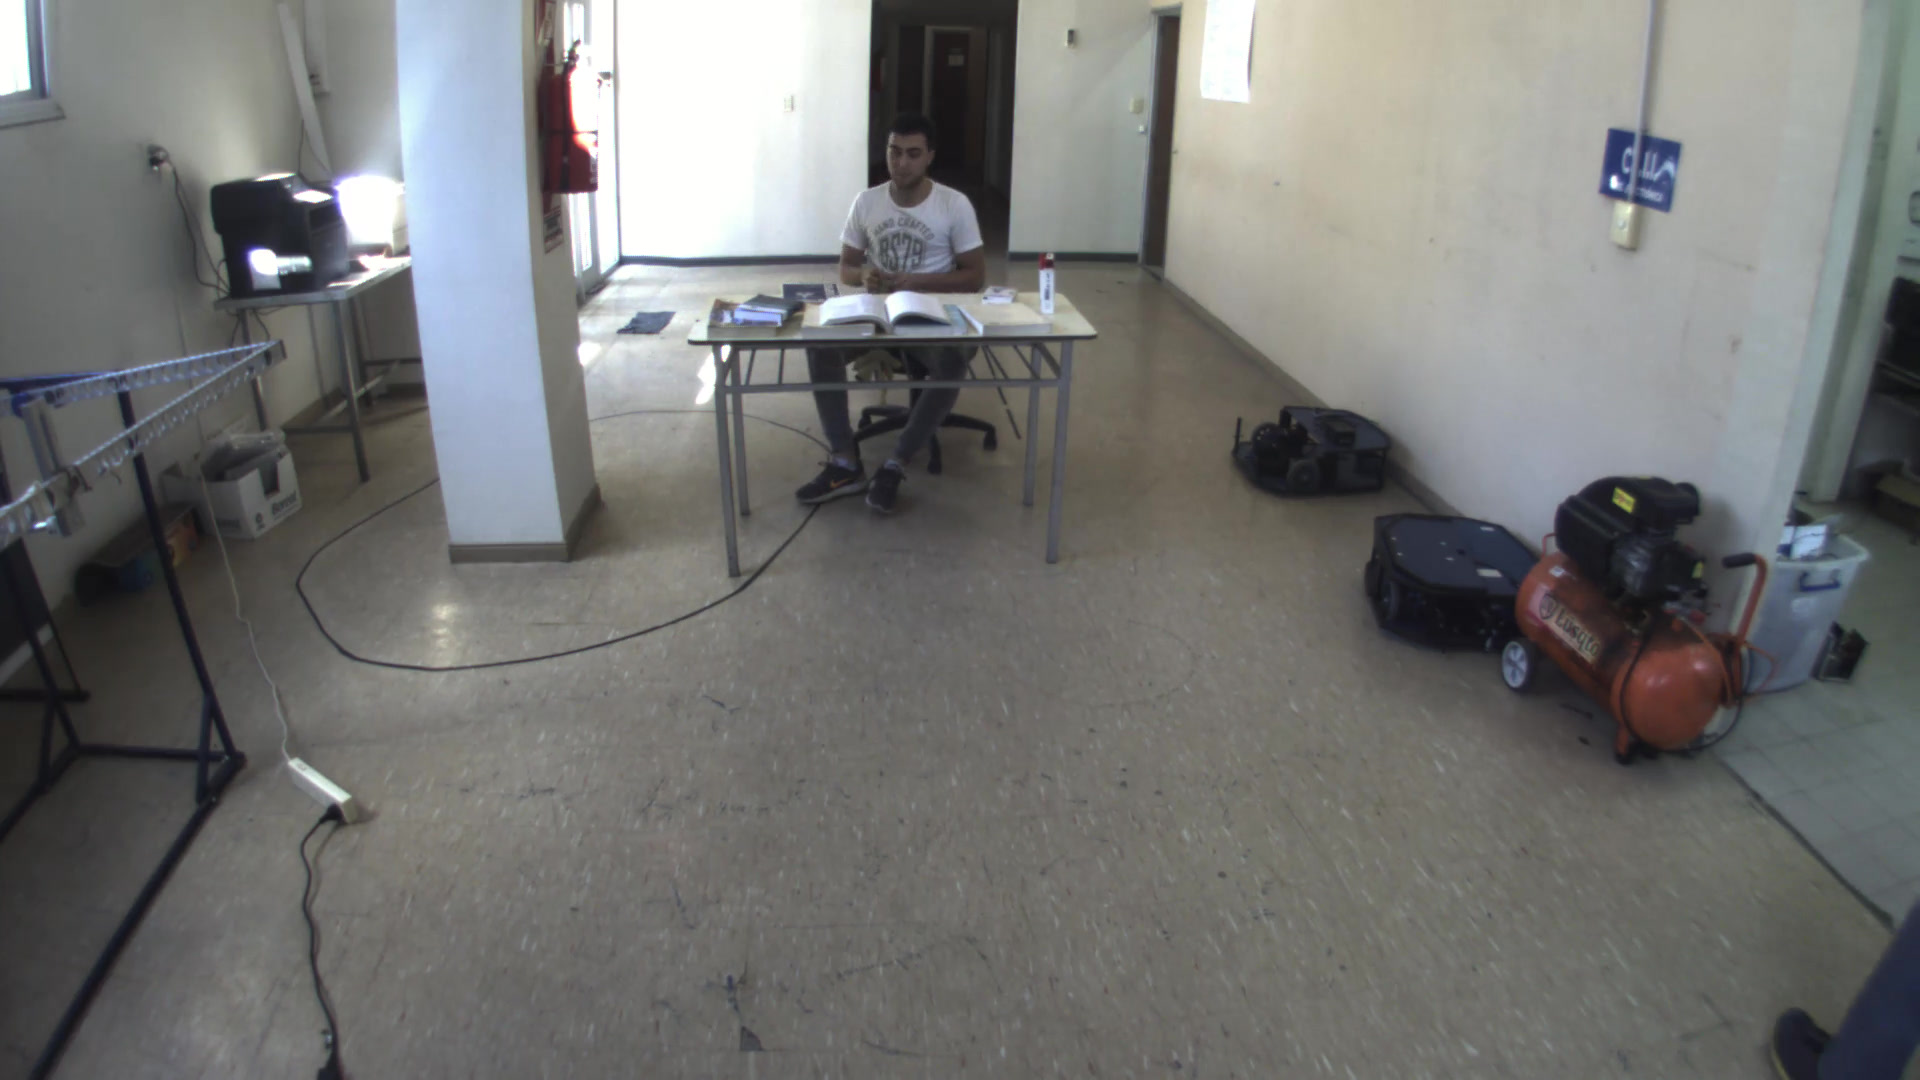hand: (858, 266, 891, 297), (891, 269, 918, 294)
